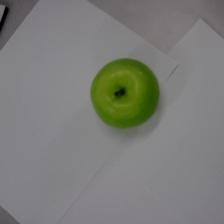green: (90, 58, 160, 129)
